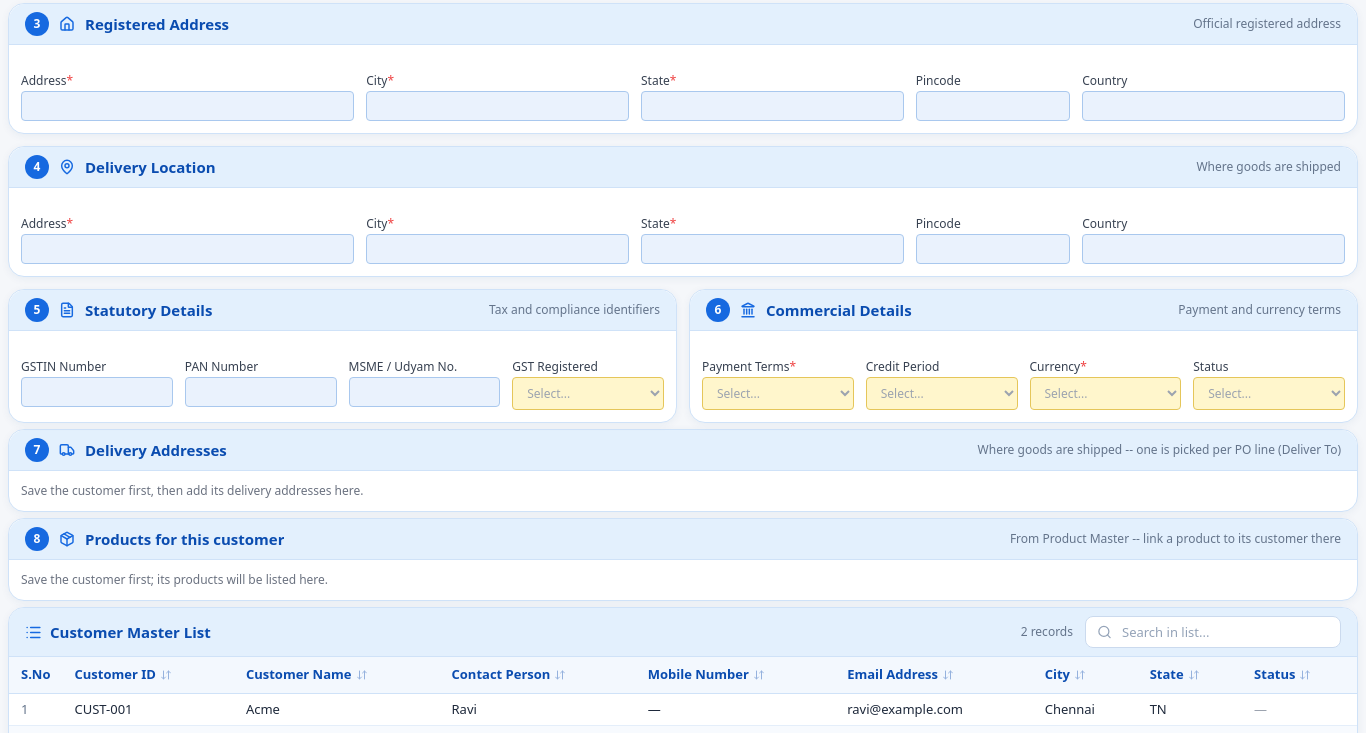
Customer Master -- section 7 removed + products card › products card (8, after Delivery Addresses 7): this customer's products only, read-only
The image size is (1366, 733).
(page scrolled)
Click the text "CUST-001" at (104, 708), box [62,693,234,726]
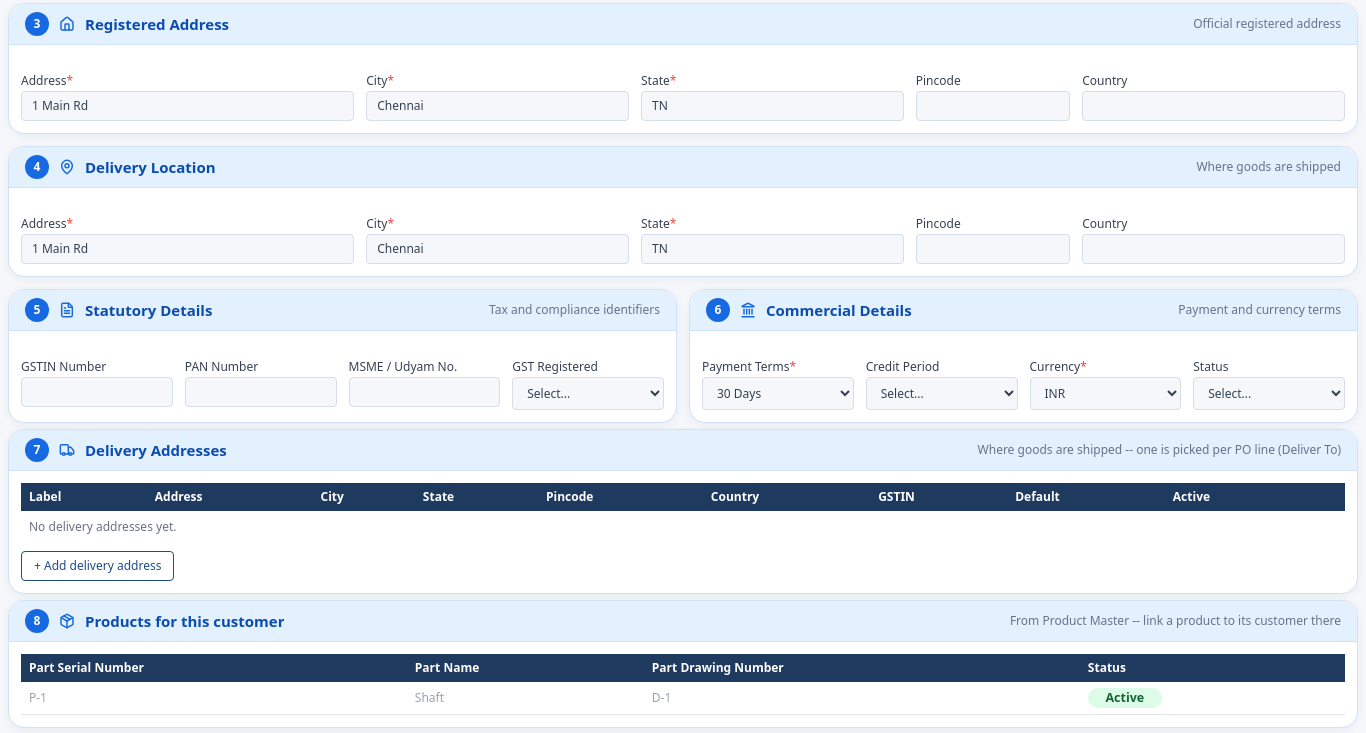
Result: the text "P-1" is shown at [21,682,407,714]
Result: the text "Shaft" is shown at [407,682,644,714]
Result: the text "D-1" is shown at [644,682,1080,714]
